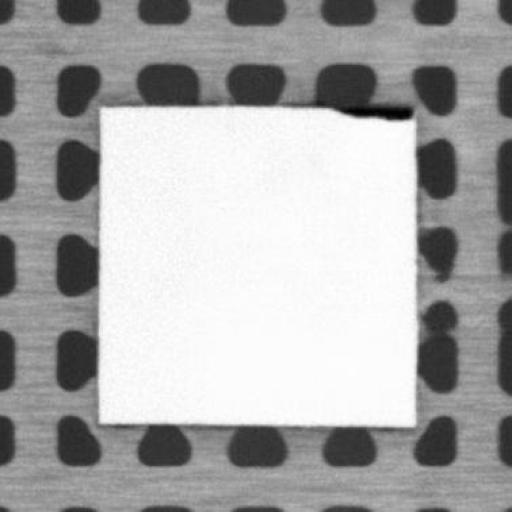DIE_BROKEN: (332, 100, 412, 122)
